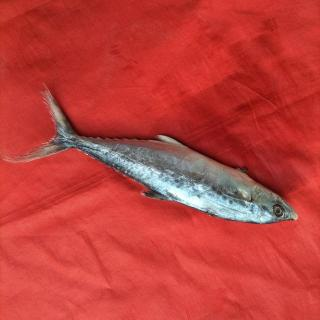Ikan: (23, 79, 305, 251)
